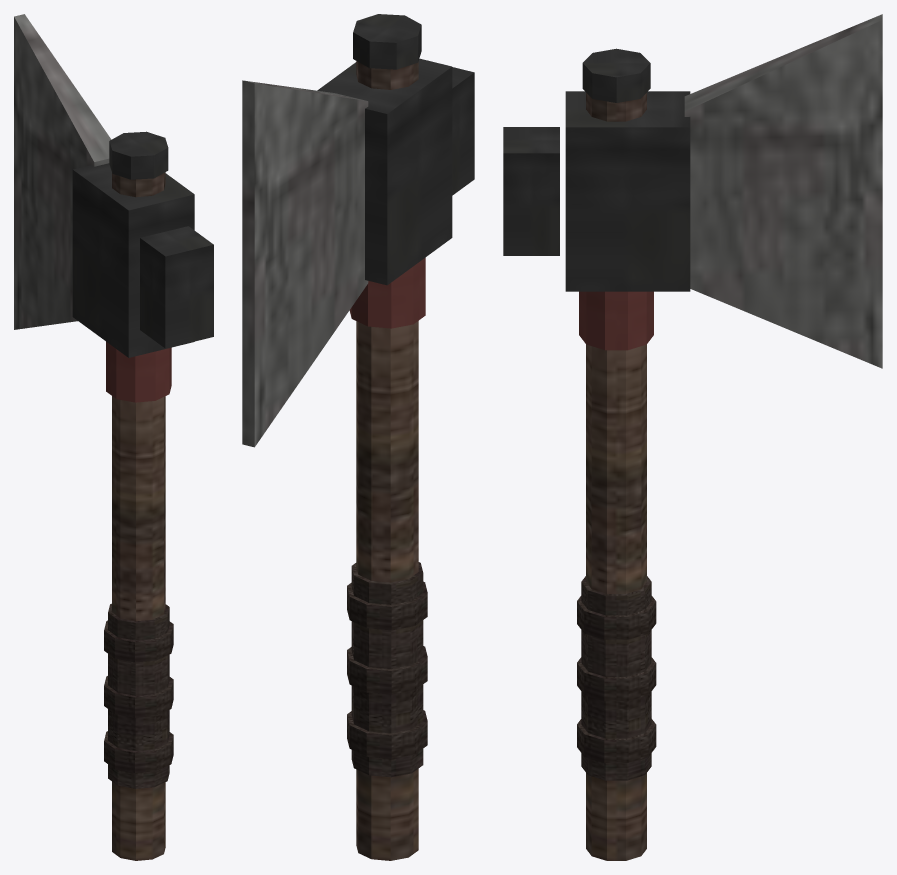
The model's file is wpn_axe_starter.glb.
The picture shows the model from 3 angles, left to right: view 1: azimuth 30°, elevation 25°; view 2: azimuth 150°, elevation 25°; view 3: azimuth 270°, elevation 25°; orthographic projection. The views are drawn at different scales.
Visible parts, largest first — view 1: wpn_axe_starter; view 2: wpn_axe_starter; view 3: wpn_axe_starter.
Boxes of the visible parts, bbox=[...] form: wpn_axe_starter: bbox=[14, 14, 213, 860]; wpn_axe_starter: bbox=[242, 14, 474, 860]; wpn_axe_starter: bbox=[503, 14, 882, 860].
Size of the model in its own units: 0.075 by 0.81 by 0.335.
Materials: 5 (5 with a texture image).
